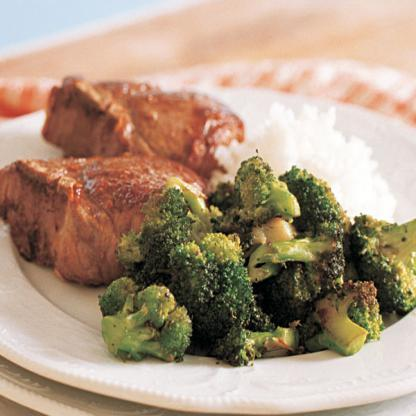broccoli: (96, 152, 416, 368)
